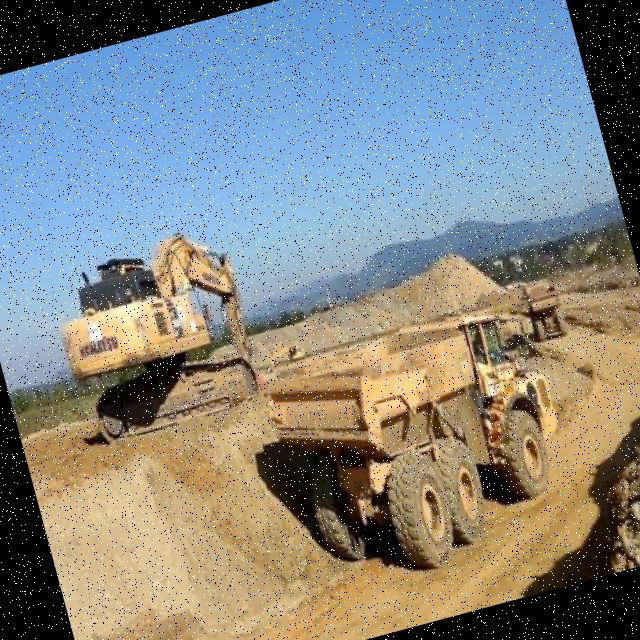Dump Truck: (254, 279, 586, 596), (518, 274, 568, 346)
Excavator: (20, 175, 274, 452)
